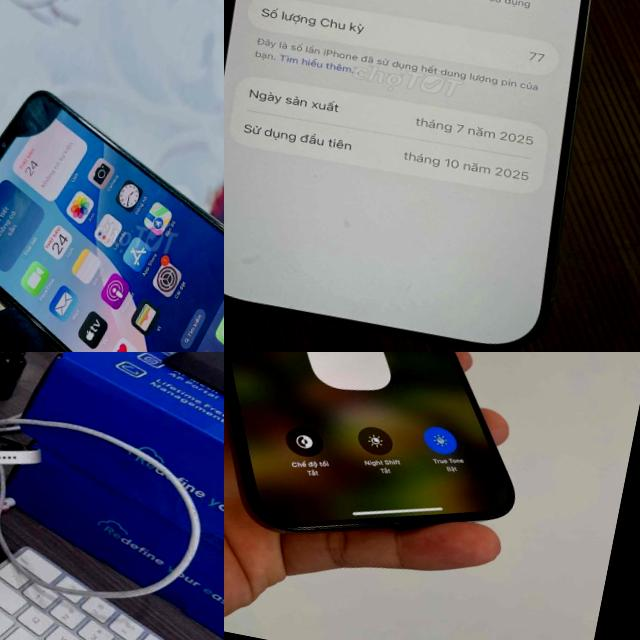gen_12_13: (0, 388, 60, 502)
gen_15: (224, 352, 577, 579)
gen_16: (224, 0, 590, 346)
gen_x_xs: (0, 72, 224, 352)
scratch: (137, 161, 224, 240)
